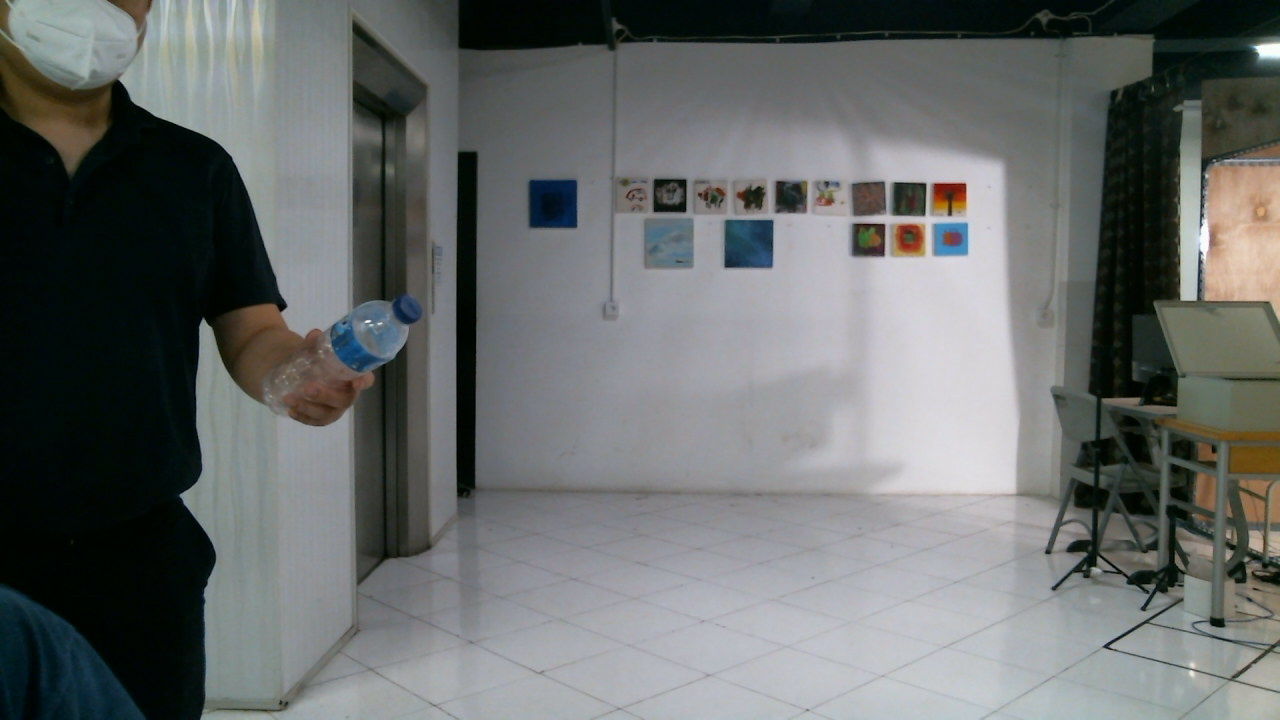Bottle: (257, 290, 422, 422)
